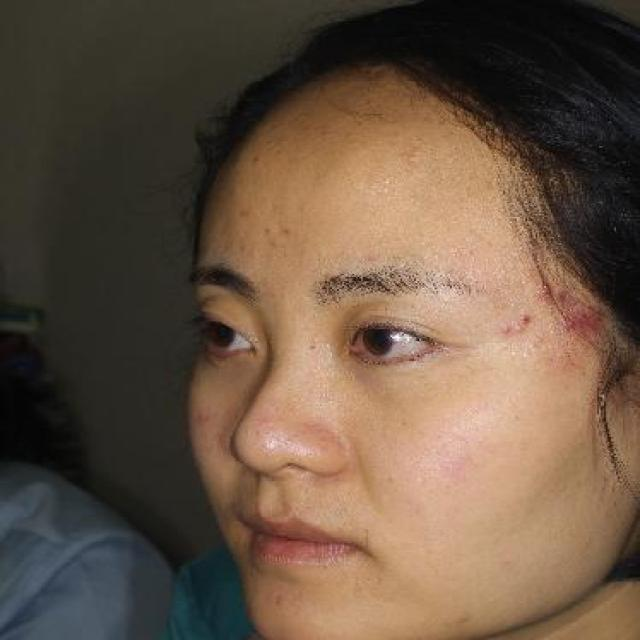pustules: (496, 323, 514, 339), (517, 310, 537, 322), (517, 324, 529, 336)
